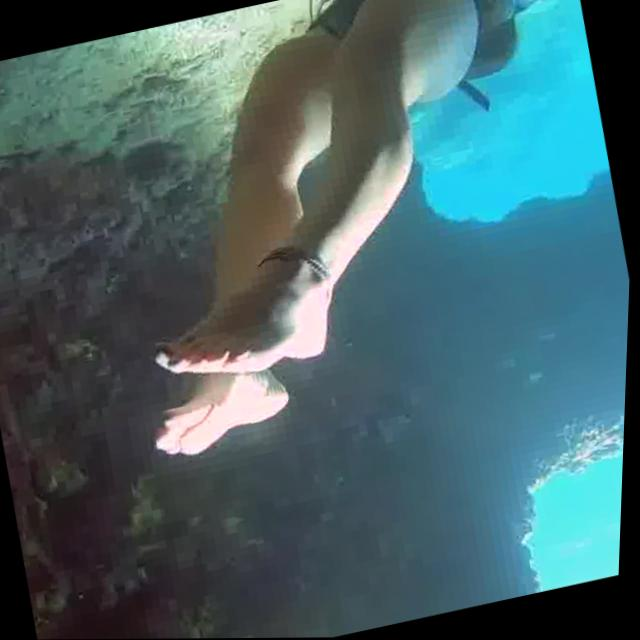human: (61, 0, 640, 482)
